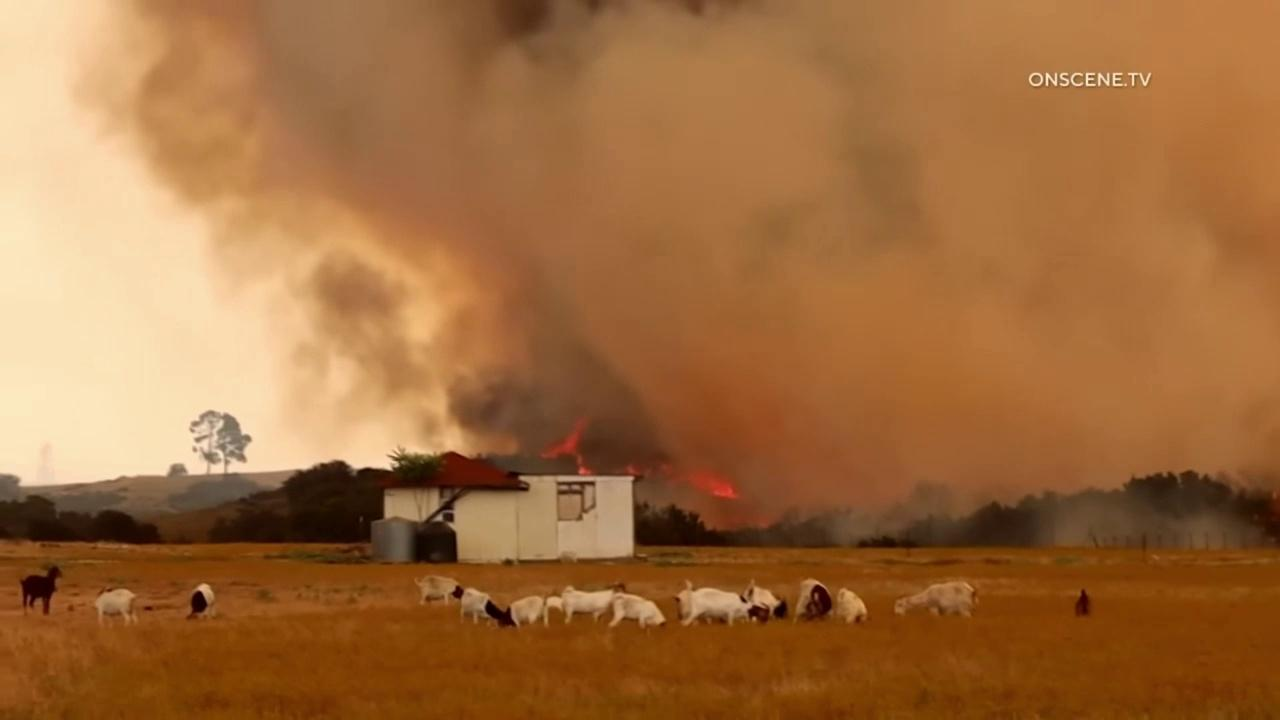fire: (539, 415, 598, 474), (684, 469, 740, 499), (624, 463, 641, 476)
smoke: (65, 0, 1280, 546)
